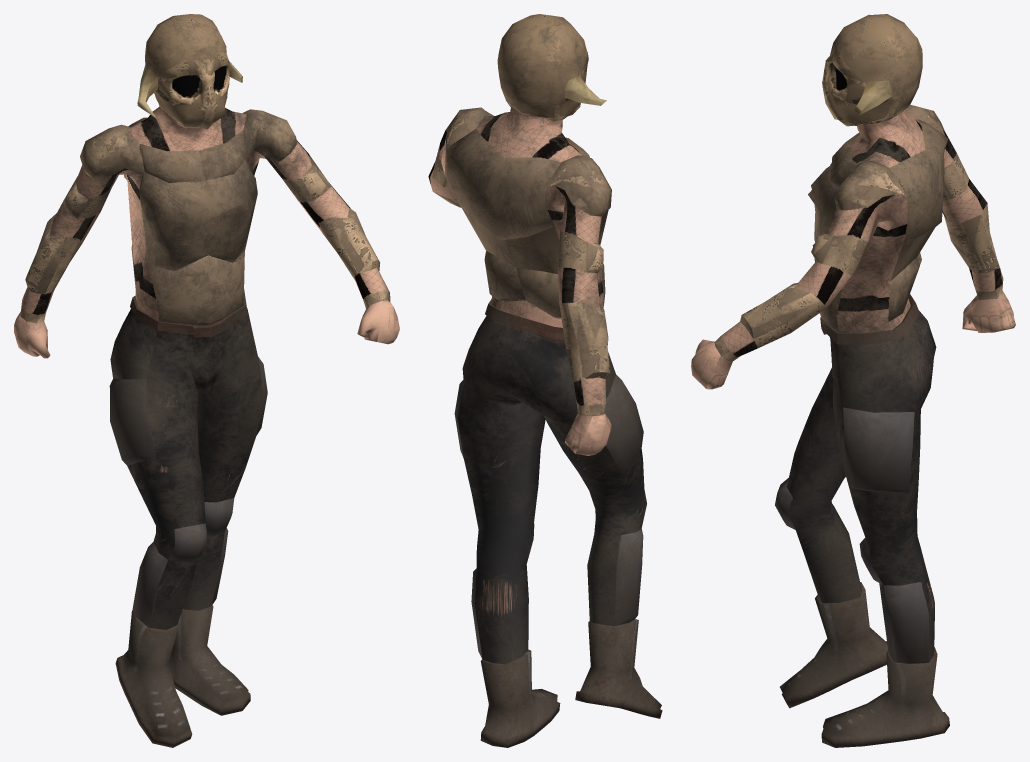
File: Anim_andar_npc1.0038.obj
3 views of the same model, side by side, from view 1: azimuth 30°, elevation 25°; view 2: azimuth 150°, elevation 25°; view 3: azimuth 270°, elevation 25° (orthographic). The views are drawn at different scales.
Visible parts, largest first — view 1: Anim_andar_npc1; view 2: Anim_andar_npc1; view 3: Anim_andar_npc1.
Part boxes in pixels (x1,y1,x2,y2): Anim_andar_npc1: (14, 14, 399, 747); Anim_andar_npc1: (428, 14, 662, 747); Anim_andar_npc1: (691, 14, 1015, 747).
Bounding box in the file's own units: 3.77 × 9.74 × 4.03.
